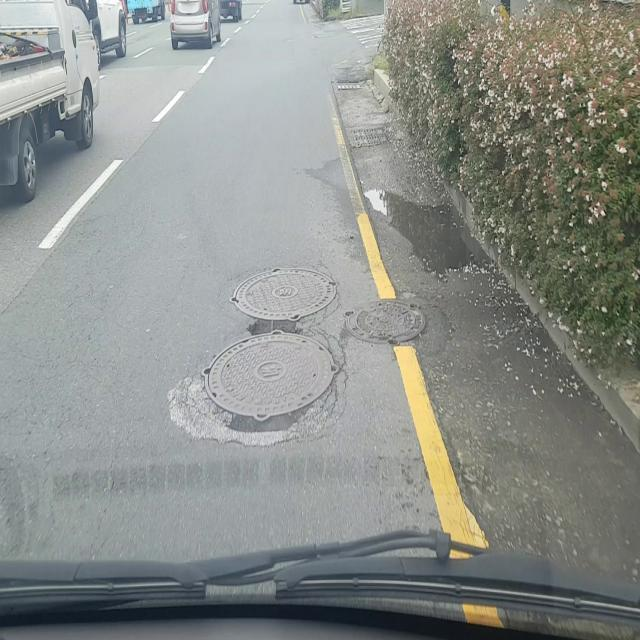pothole: (199, 330, 343, 436), (227, 264, 344, 330)
